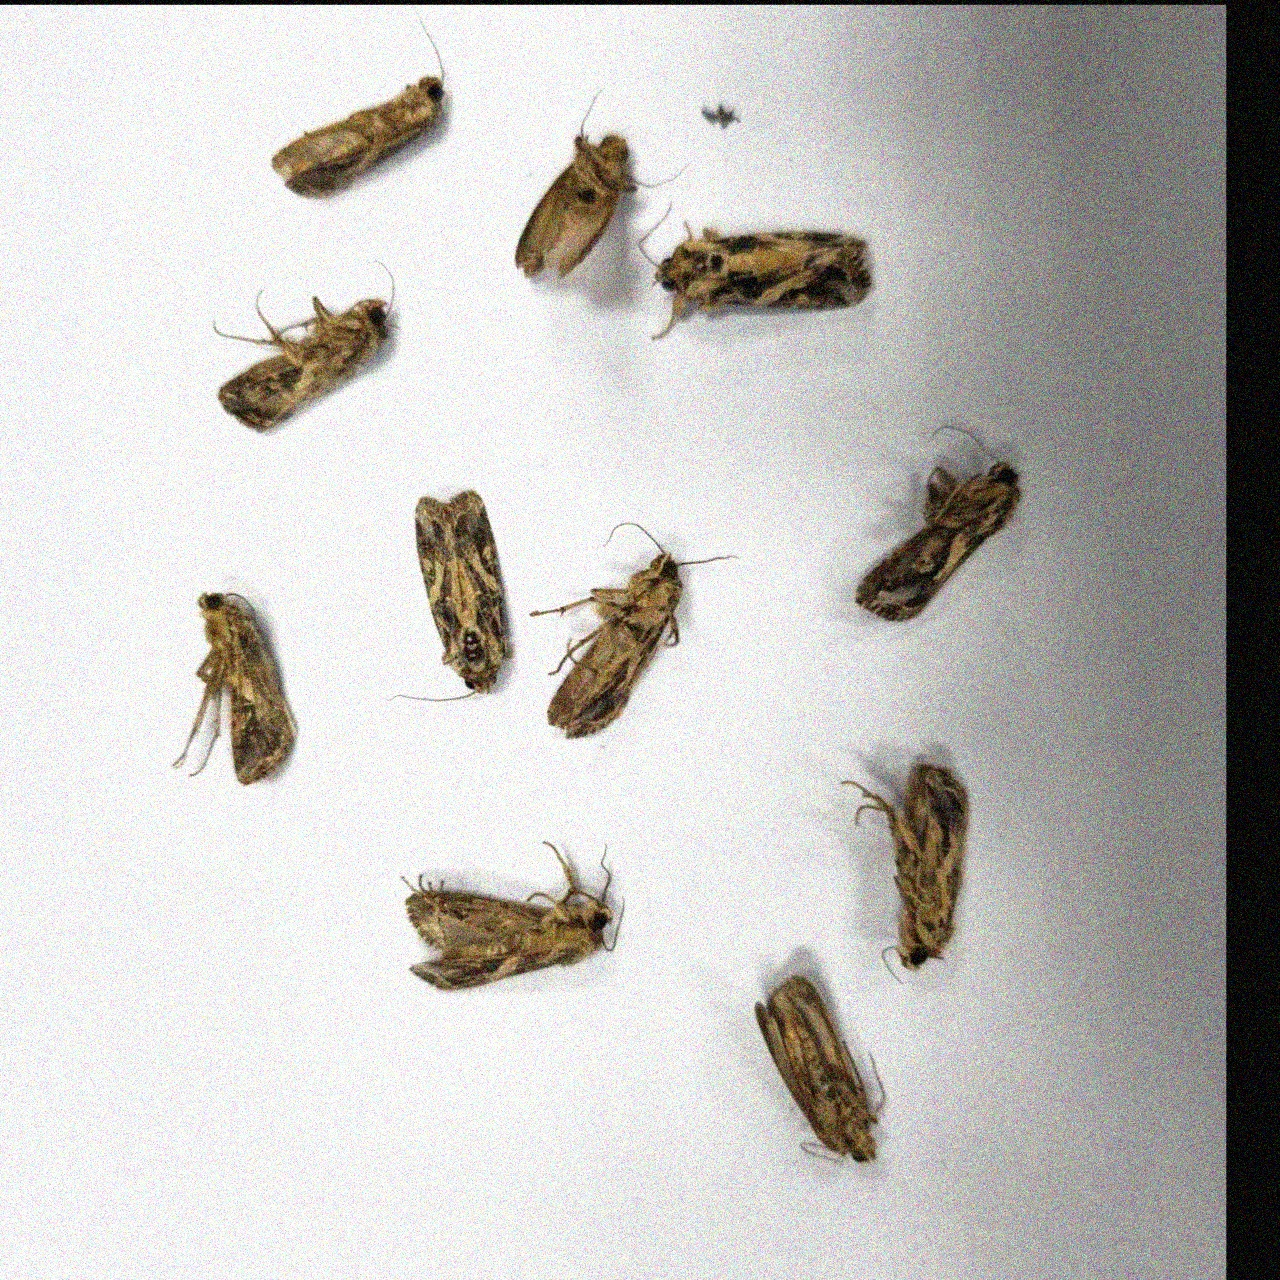Spodoptera litura: (527, 522, 740, 738), (400, 840, 626, 990), (272, 5, 447, 198), (515, 87, 688, 279), (638, 200, 872, 340), (853, 425, 1020, 620), (213, 259, 401, 431), (840, 763, 971, 985), (388, 489, 515, 700), (754, 973, 885, 1162), (172, 592, 299, 784)
